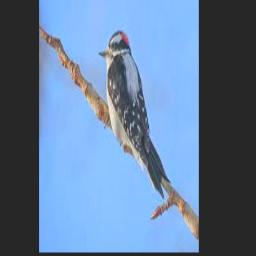Woodpecker: (98, 30, 170, 198)
